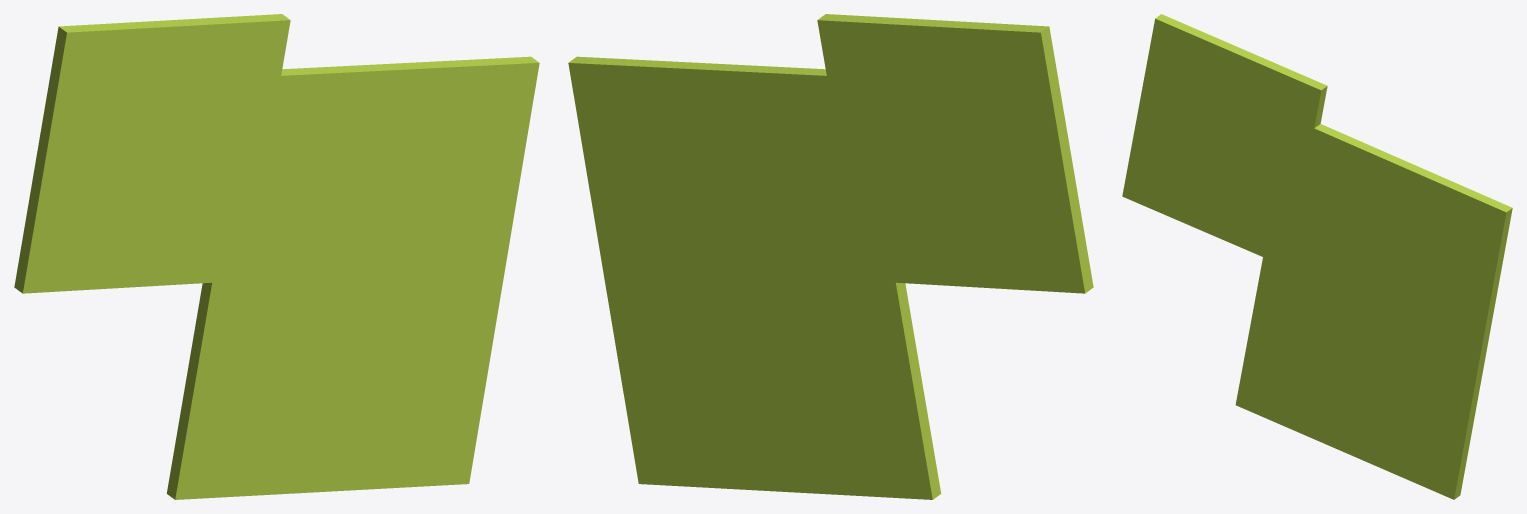
3 views of the same model, side by side, from view 1: azimuth 30°, elevation 25°; view 2: azimuth 150°, elevation 25°; view 3: azimuth 330°, elevation 25° (orthographic). The views are drawn at different scales.
Parts seen in each view (by area): view 1: osm-way27917482-F2; view 2: osm-way27917482-F2; view 3: osm-way27917482-F2.
Part boxes in pixels (x1,y1,x2,y2): osm-way27917482-F2: (14, 14, 539, 499); osm-way27917482-F2: (568, 14, 1093, 499); osm-way27917482-F2: (1122, 14, 1512, 499).
Bounding box in the file's own units: 5.29 × 5.37 × 0.15.
